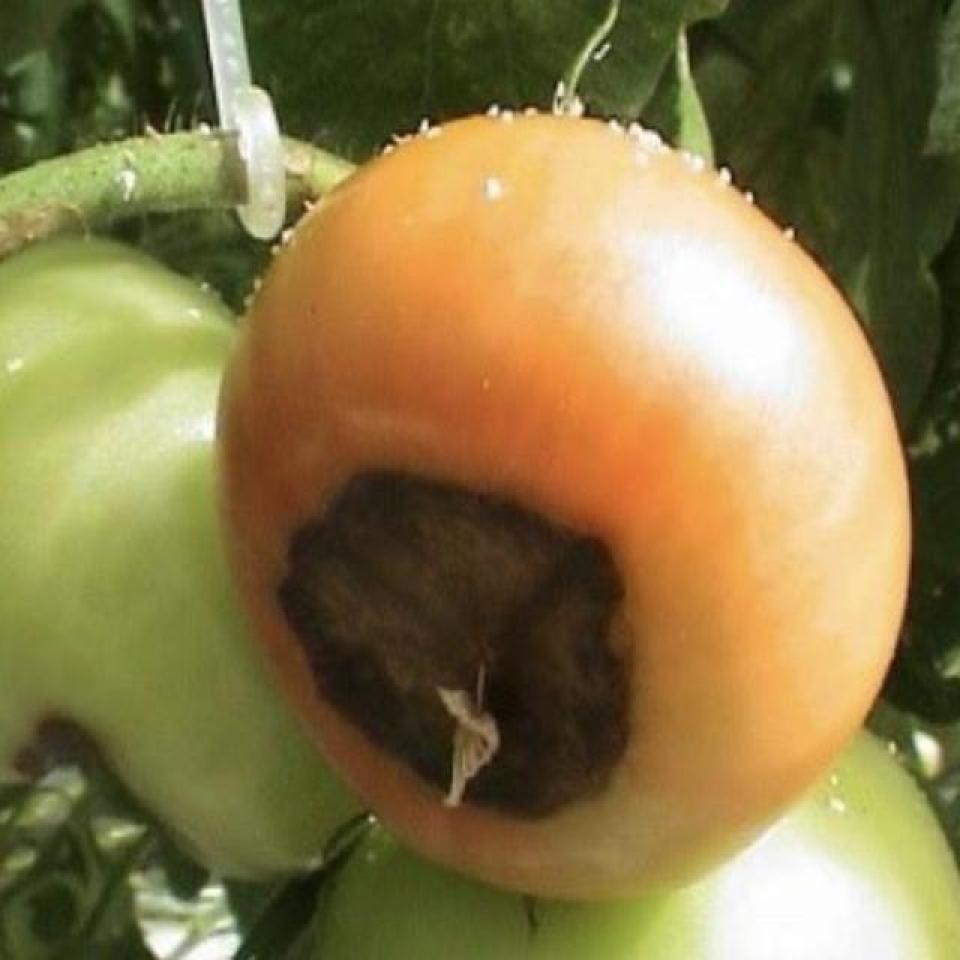Blossom_end_rot: (272, 452, 638, 823), (0, 699, 226, 872)
